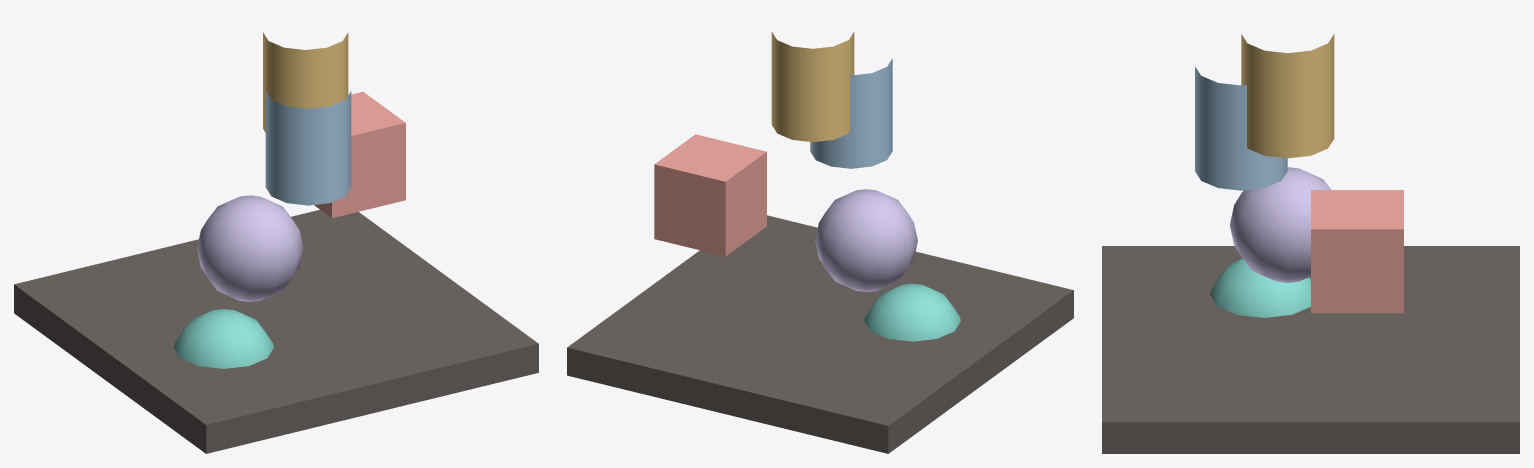
Rendered from heart.glb.
The picture shows the model from 3 angles, left to right: view 1: azimuth 30°, elevation 25°; view 2: azimuth 150°, elevation 25°; view 3: azimuth 270°, elevation 25°; orthographic projection. The views are drawn at different scales.
Parts seen in each view (by area): view 1: base-mount, mitral-valve, pulmonary-trunk, right-atrium, aortic-arch, left-ventricle; view 2: base-mount, right-atrium, mitral-valve, aortic-arch, pulmonary-trunk, left-ventricle; view 3: base-mount, right-atrium, aortic-arch, mitral-valve, pulmonary-trunk, left-ventricle.
Part boxes in pixels (left/top/right/bottom): base-mount: left=14, top=210, right=538, bottom=453; mitral-valve: left=197, top=195, right=303, bottom=301; pulmonary-trunk: left=265, top=91, right=351, bottom=205; right-atrium: left=314, top=92, right=405, bottom=218; aortic-arch: left=263, top=32, right=348, bottom=132; left-ventricle: left=173, top=309, right=273, bottom=368; base-mount: left=567, top=215, right=1073, bottom=453; right-atrium: left=654, top=134, right=766, bottom=256; mitral-valve: left=815, top=189, right=917, bottom=291; aortic-arch: left=771, top=31, right=854, bottom=142; pulmonary-trunk: left=810, top=58, right=892, bottom=168; left-ventricle: left=864, top=283, right=960, bottom=341; base-mount: left=1102, top=246, right=1519, bottom=453; right-atrium: left=1311, top=190, right=1403, bottom=313; aortic-arch: left=1241, top=34, right=1334, bottom=158; mitral-valve: left=1230, top=167, right=1330, bottom=282; pulmonary-trunk: left=1195, top=66, right=1287, bottom=190; left-ventricle: left=1210, top=258, right=1310, bottom=317.
Size of the model in its own units: 0.18 by 0.18 by 0.18.
